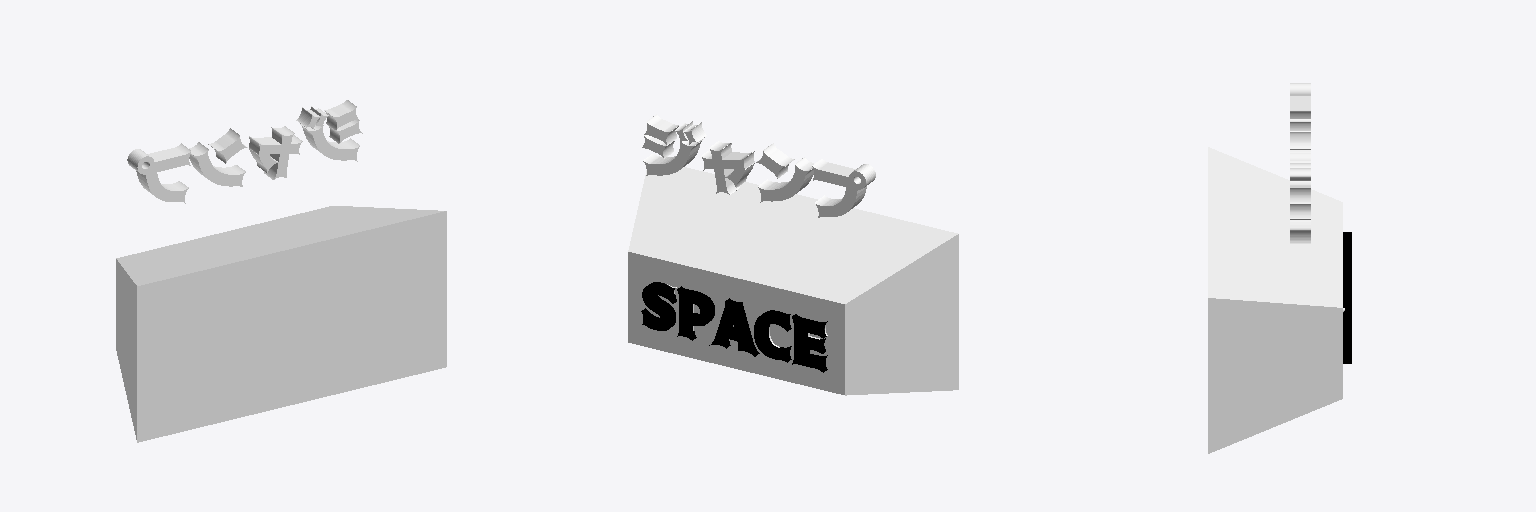
3 views of the same model, side by side, from view 1: azimuth 30°, elevation 25°; view 2: azimuth 150°, elevation 25°; view 3: azimuth 270°, elevation 25° (orthographic).
Visible parts, largest first — view 1: テキスト.001; view 2: テキスト.001; view 3: テキスト.001.
Part boxes in pixels (left/top/right/bottom): テキスト.001: left=116, top=100, right=446, bottom=442; テキスト.001: left=628, top=114, right=958, bottom=395; テキスト.001: left=1208, top=83, right=1351, bottom=453.
Bounding box in the file's own units: 3.56 × 2.7 × 1.43.
Materials: 1 (1 with a texture image).